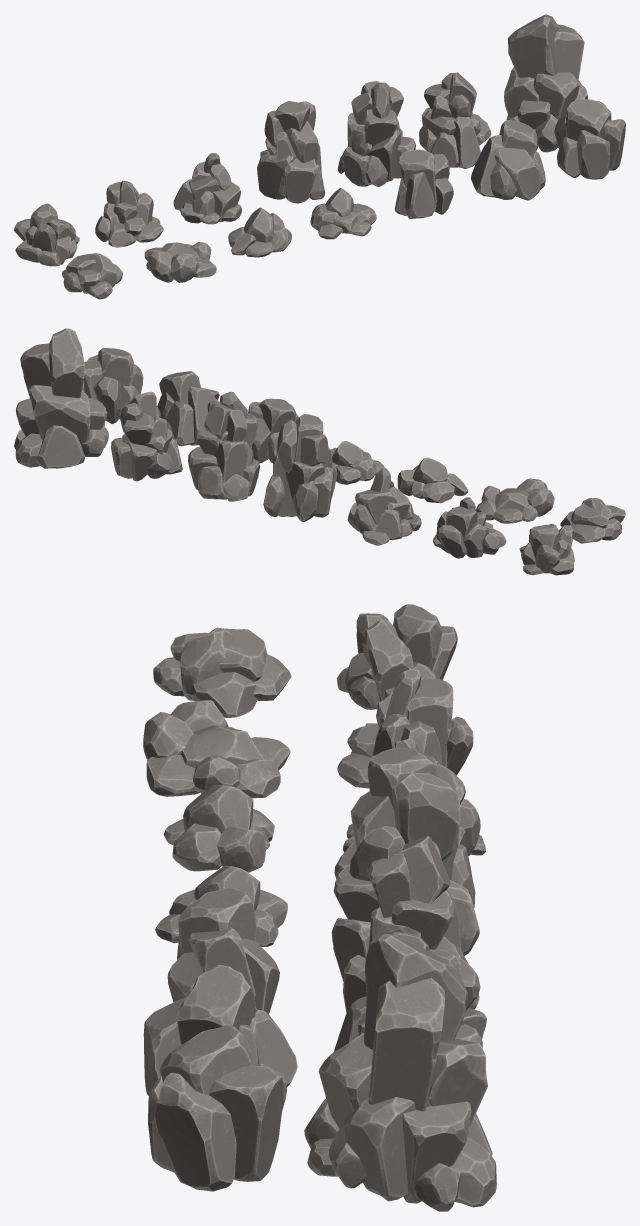
Rendered from RocasGrandes.fbx.
The picture shows the model from 3 angles, top to bottom: view 1: azimuth 30°, elevation 25°; view 2: azimuth 150°, elevation 25°; view 3: azimuth 270°, elevation 25°; orthographic projection. The views are drawn at different scales.
Visible parts, largest first — view 1: Desert_Rock_Group7, Desert_Rock_Group4, Desert_Rock_Group5, Desert_Rock_Group6, Desert_Rock_Group14, Desert_Rock_Group13, Desert_Rock_Group12, Desert_Rock_Group3, Desert_Rock_Group2, Desert_Rock_Group1, Desert_Rock_Group9, Desert_Rock_Group11 (+2 smaller); view 2: Desert_Rock_Group7, Desert_Rock_Group4, Desert_Rock_Group5, Desert_Rock_Group6, Desert_Rock_Group3, Desert_Rock_Group14, Desert_Rock_Group13, Desert_Rock_Group2, Desert_Rock_Group9, Desert_Rock_Group1, Desert_Rock_Group10, Desert_Rock_Group8 (+2 smaller); view 3: Desert_Rock_Group7, Desert_Rock_Group14, Desert_Rock_Group5, Desert_Rock_Group4, Desert_Rock_Group9, Desert_Rock_Group13, Desert_Rock_Group8, Desert_Rock_Group2, Desert_Rock_Group12, Desert_Rock_Group1, Desert_Rock_Group10, Desert_Rock_Group11 (+2 smaller).
Part boxes in pixels (<box>): Desert_Rock_Group7: <box>504,14,587,152</box>; Desert_Rock_Group4: <box>257,101,325,203</box>; Desert_Rock_Group5: <box>337,81,415,186</box>; Desert_Rock_Group6: <box>419,72,491,168</box>; Desert_Rock_Group14: <box>554,98,625,179</box>; Desert_Rock_Group13: <box>471,120,545,200</box>; Desert_Rock_Group12: <box>394,149,453,218</box>; Desert_Rock_Group3: <box>173,153,241,224</box>; Desert_Rock_Group2: <box>95,180,163,247</box>; Desert_Rock_Group1: <box>14,203,79,266</box>; Desert_Rock_Group9: <box>144,242,216,282</box>; Desert_Rock_Group11: <box>310,188,376,239</box>; Desert_Rock_Group7: <box>14,328,108,468</box>; Desert_Rock_Group4: <box>263,414,337,521</box>; Desert_Rock_Group5: <box>188,391,259,501</box>; Desert_Rock_Group6: <box>111,392,182,481</box>; Desert_Rock_Group3: <box>347,467,421,545</box>; Desert_Rock_Group14: <box>84,348,143,423</box>; Desert_Rock_Group13: <box>157,371,219,446</box>; Desert_Rock_Group2: <box>433,497,506,558</box>; Desert_Rock_Group9: <box>475,478,554,523</box>; Desert_Rock_Group1: <box>519,523,574,575</box>; Desert_Rock_Group10: <box>397,457,468,503</box>; Desert_Rock_Group8: <box>560,498,625,543</box>; Desert_Rock_Group7: <box>304,934,496,1211</box>; Desert_Rock_Group14: <box>148,1025,287,1191</box>; Desert_Rock_Group5: <box>331,826,479,1012</box>; Desert_Rock_Group4: <box>334,747,479,955</box>; Desert_Rock_Group9: <box>143,700,290,798</box>; Desert_Rock_Group13: <box>143,965,297,1095</box>; Desert_Rock_Group8: <box>153,627,291,717</box>; Desert_Rock_Group2: <box>337,669,473,788</box>; Desert_Rock_Group12: <box>167,887,279,1014</box>; Desert_Rock_Group1: <box>336,604,457,709</box>; Desert_Rock_Group10: <box>163,785,274,872</box>; Desert_Rock_Group11: <box>155,865,287,946</box>.
Size of the model in its own units: 1374 by 295 by 380.
